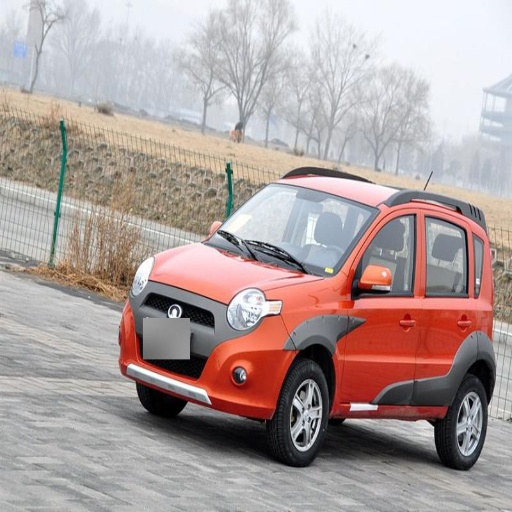front_bumper: (132, 280, 293, 418)
front_glass: (207, 184, 376, 275)
front_left_door: (344, 206, 420, 403)
